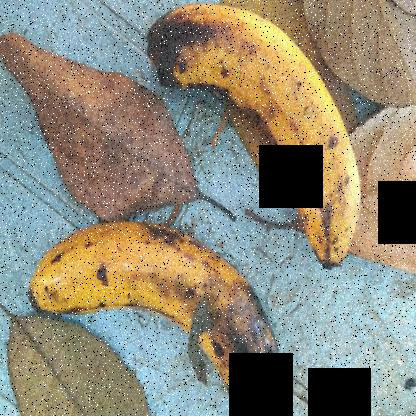overripe: (217, 1, 383, 271), (32, 198, 217, 352)
rotten: (178, 254, 307, 415), (122, 0, 239, 119)
